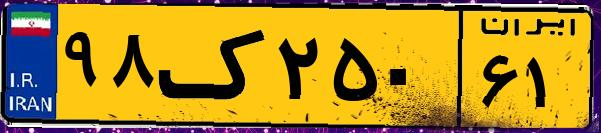0: (385, 28, 445, 110)
1: (525, 38, 570, 115)
2: (270, 28, 330, 110)
5: (330, 28, 385, 110)
6: (475, 38, 525, 113)
8: (110, 28, 158, 98)
9: (57, 26, 110, 100)
ک: (158, 12, 270, 120)
